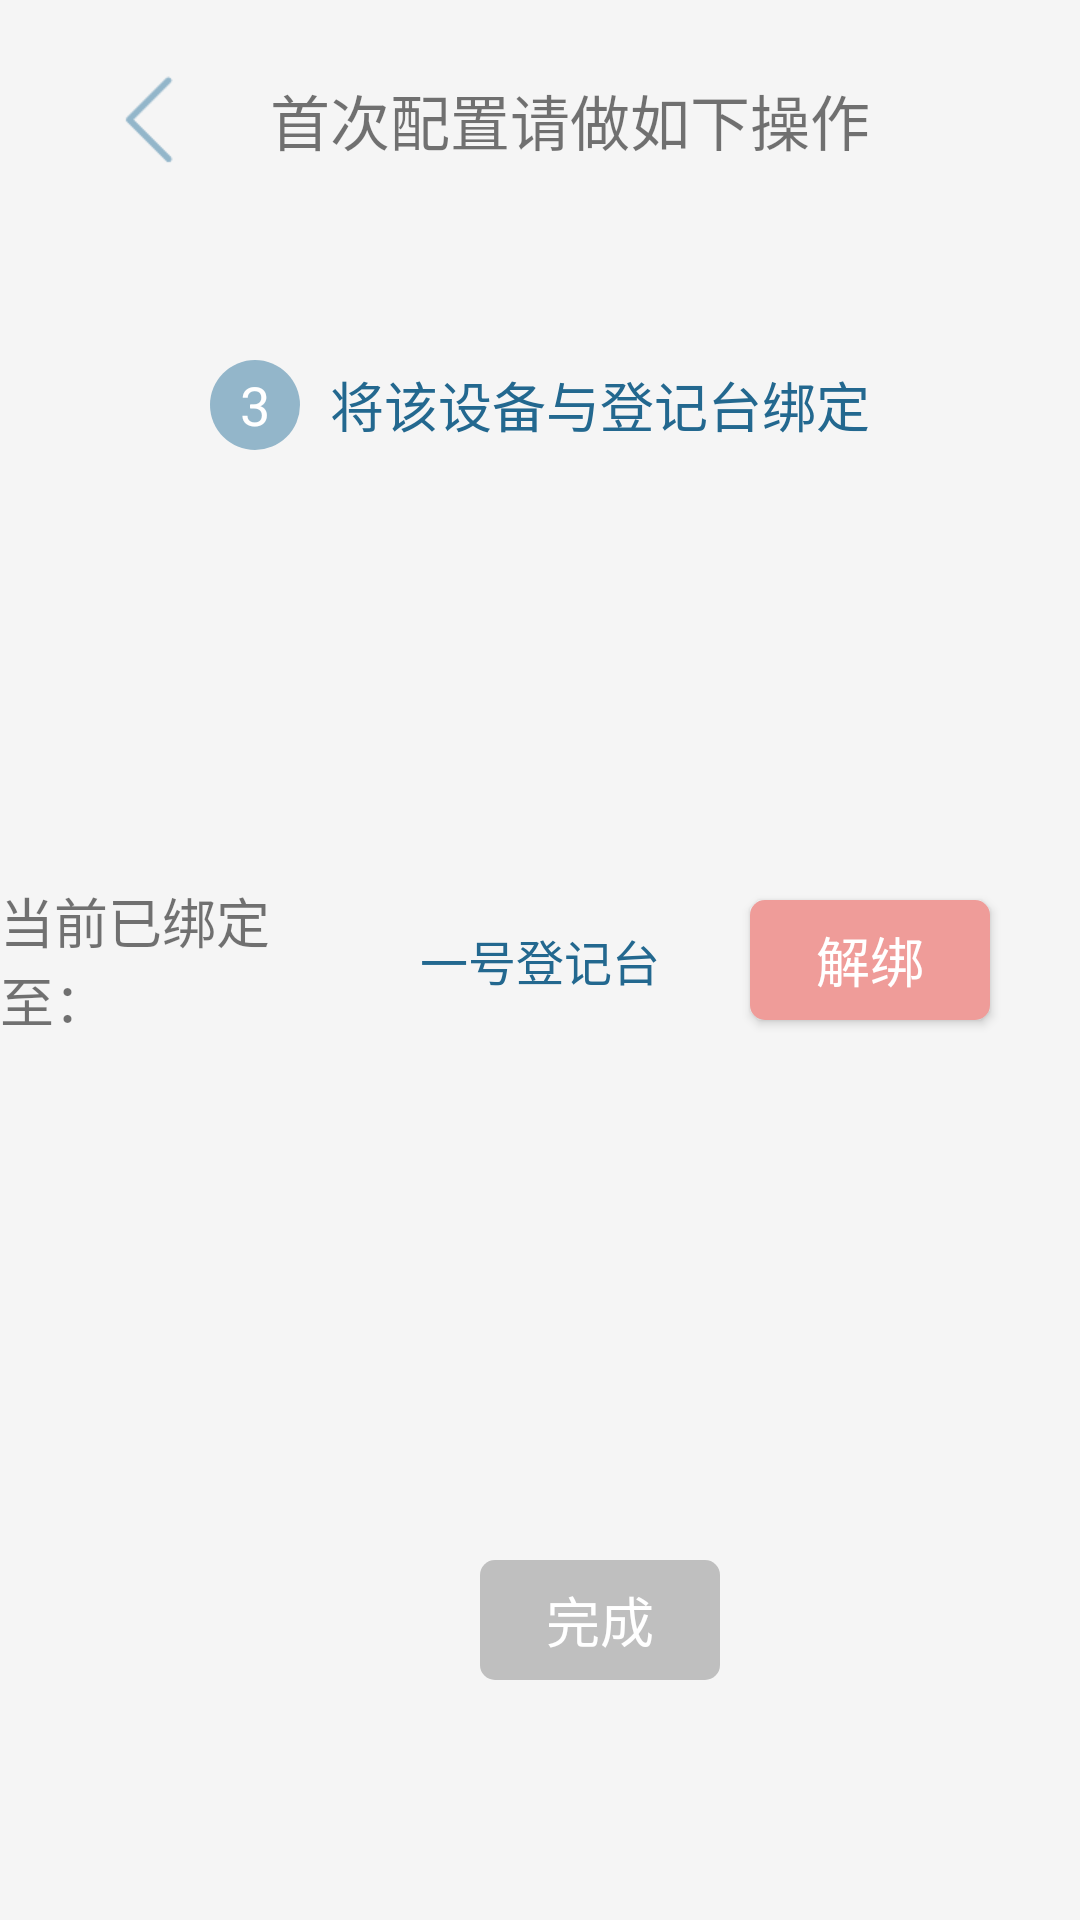

Where to tap for icons on this 1080x1920 app screen, as (x=x, y=y):
back: (x=149, y=119)
